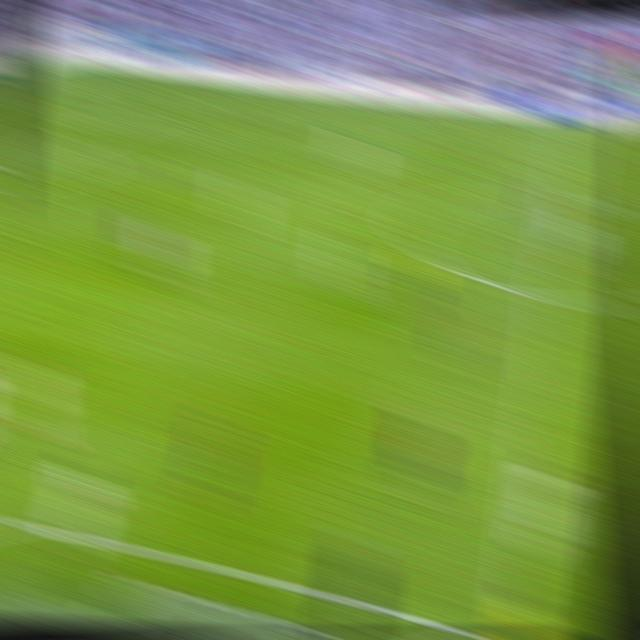bigarea_bottom_outter: (64, 126, 96, 149)
bigarea_top_inner: (135, 98, 167, 120)
halfcircle_bottom: (540, 280, 577, 316)
halfcircle_top: (553, 183, 590, 215)
midline_top_intersection: (563, 118, 595, 139)
